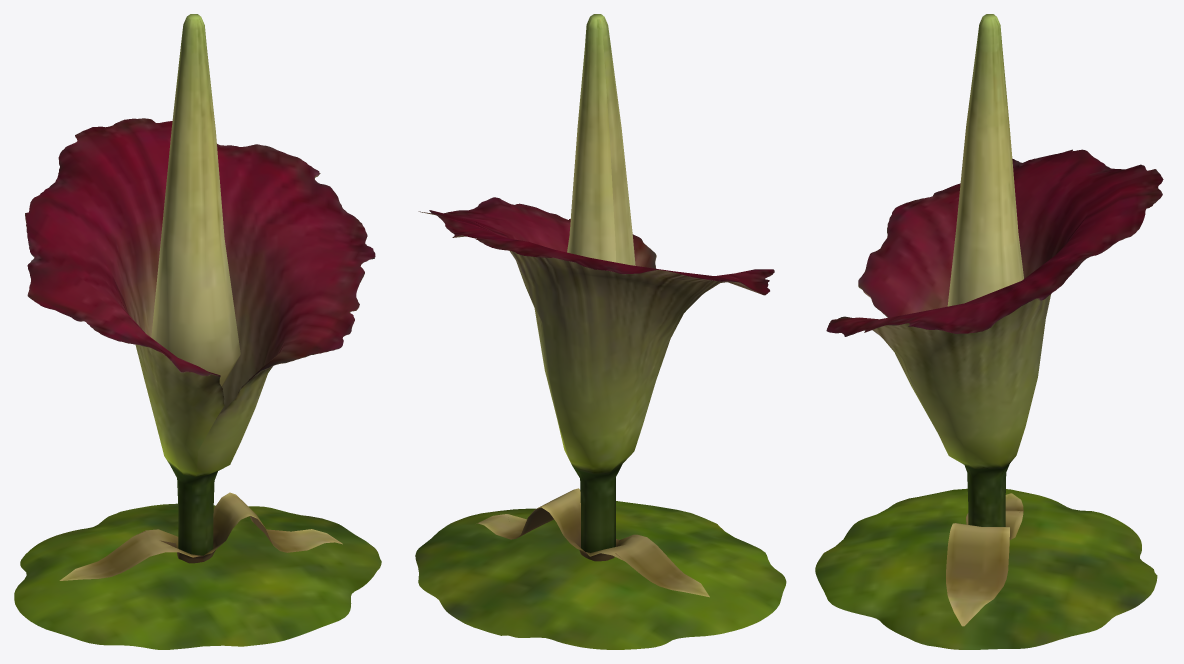
3 views of the same model, side by side, from view 1: azimuth 30°, elevation 25°; view 2: azimuth 150°, elevation 25°; view 3: azimuth 270°, elevation 25° (orthographic).
Bounding box in the file's own units: 17.78 × 27.73 × 16.1.
1 material, 1 textured.
